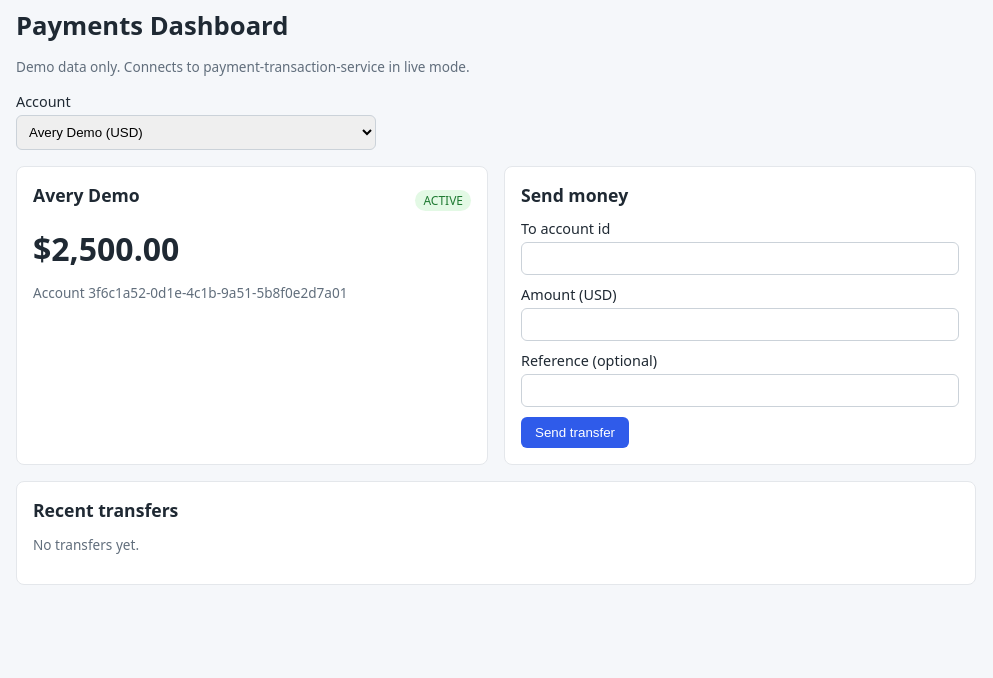
Test: App › loads an account, sends a transfer and shows it in history
The width and height of the screenshot is (993, 678).
Expected: the text with test id "balance" reads "$2,500.00", left=33, top=227, right=179, bottom=270
Type "8b2e4d90-6f3a-4e7c-b1d2-9c0a5e3f1b02" into the field labelled "To account id". click: (740, 258)
box: left=521, top=242, right=959, bottom=275
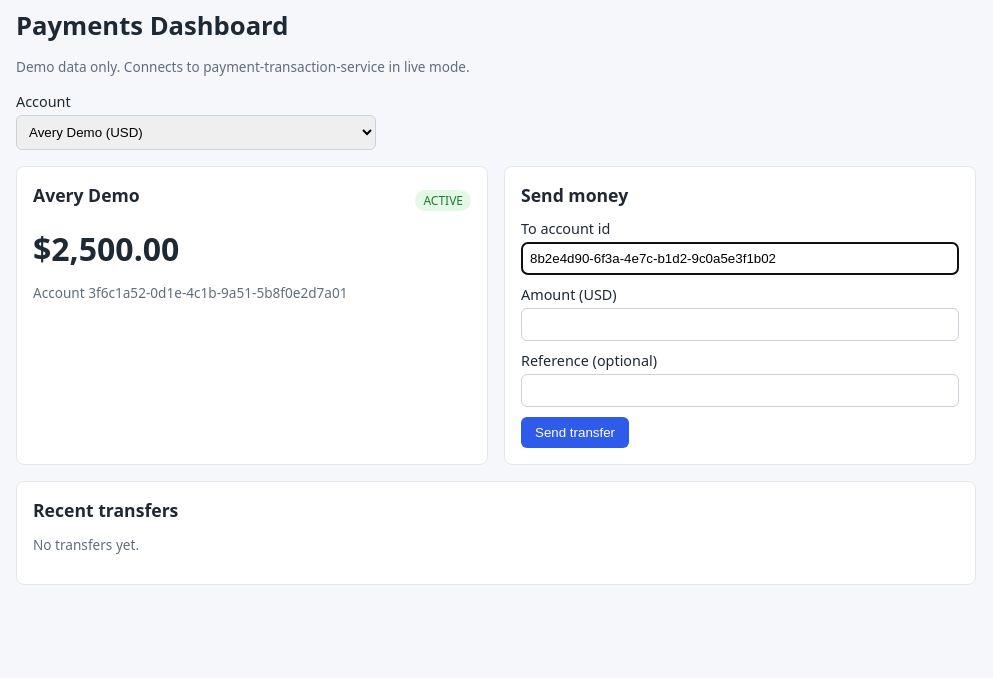
Type "125.50" into the field labelled "Amount (USD)". click: (740, 324)
box: left=521, top=308, right=959, bottom=341
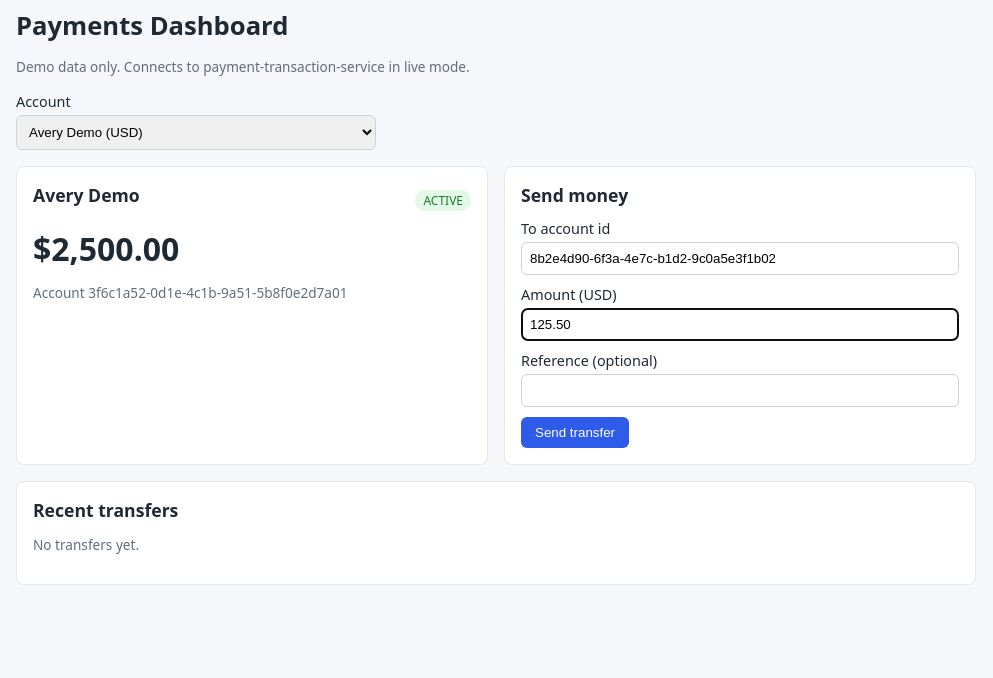
Click the button "Send transfer". click: click(575, 432)
box: left=521, top=417, right=629, bottom=448
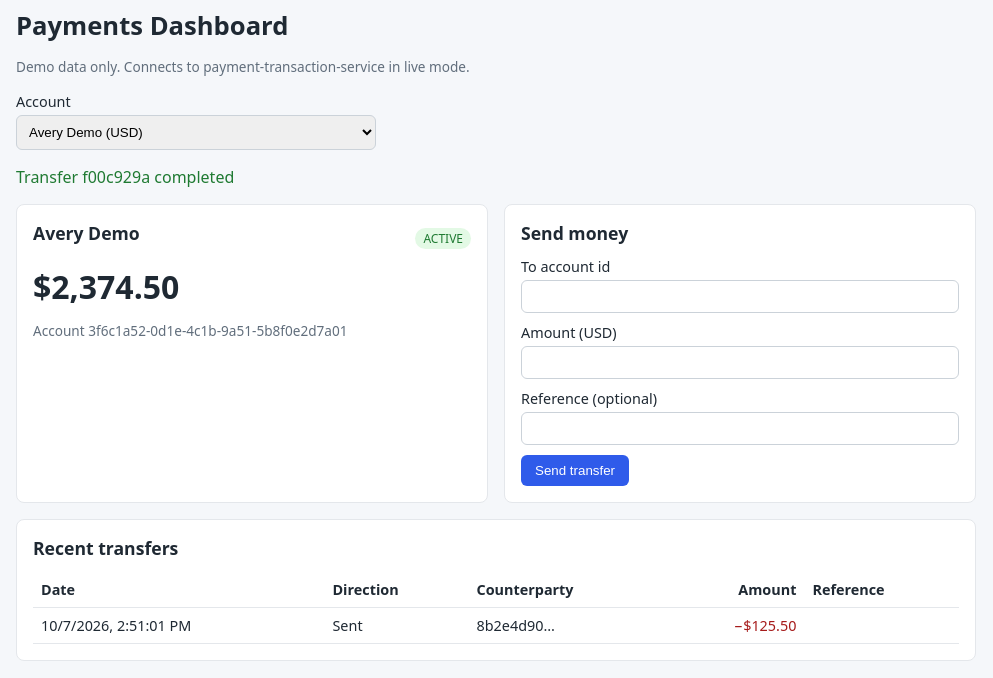
Now the message shows "completed", box left=16, top=166, right=234, bottom=188
Now the text with test id "balance" reads "$2,374.50", box left=33, top=265, right=179, bottom=308
Now the text "Sent" is shown, box left=324, top=607, right=468, bottom=643
